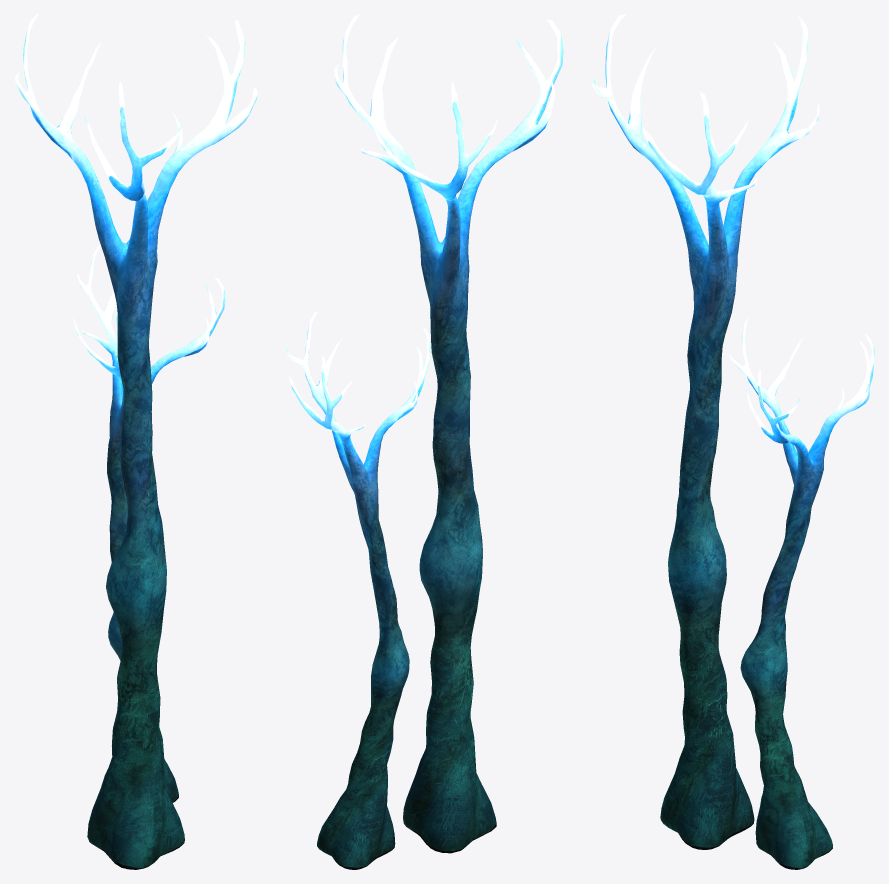
3 views of the same model, side by side, from view 1: azimuth 30°, elevation 25°; view 2: azimuth 150°, elevation 25°; view 3: azimuth 270°, elevation 25° (orthographic). The views are drawn at different scales.
Parts seen in each view (by area): view 1: SM_APV1__LOD0_Tree_A_Trunk_0, SM_APV1__LOD0_Tree_A_Trunk_0_0; view 2: SM_APV1__LOD0_Tree_A_Trunk_0, SM_APV1__LOD0_Tree_A_Trunk_0_0; view 3: SM_APV1__LOD0_Tree_A_Trunk_0, SM_APV1__LOD0_Tree_A_Trunk_0_0.
Boxes of the visible parts, x1,y1,x2,y2 form: SM_APV1__LOD0_Tree_A_Trunk_0: (14,14,257,869); SM_APV1__LOD0_Tree_A_Trunk_0_0: (73,244,225,802); SM_APV1__LOD0_Tree_A_Trunk_0: (334,14,563,853); SM_APV1__LOD0_Tree_A_Trunk_0_0: (286,311,430,869); SM_APV1__LOD0_Tree_A_Trunk_0: (592,14,819,849); SM_APV1__LOD0_Tree_A_Trunk_0_0: (729,318,874,869).
Size of the model in its own units: 160 by 608 by 198.
